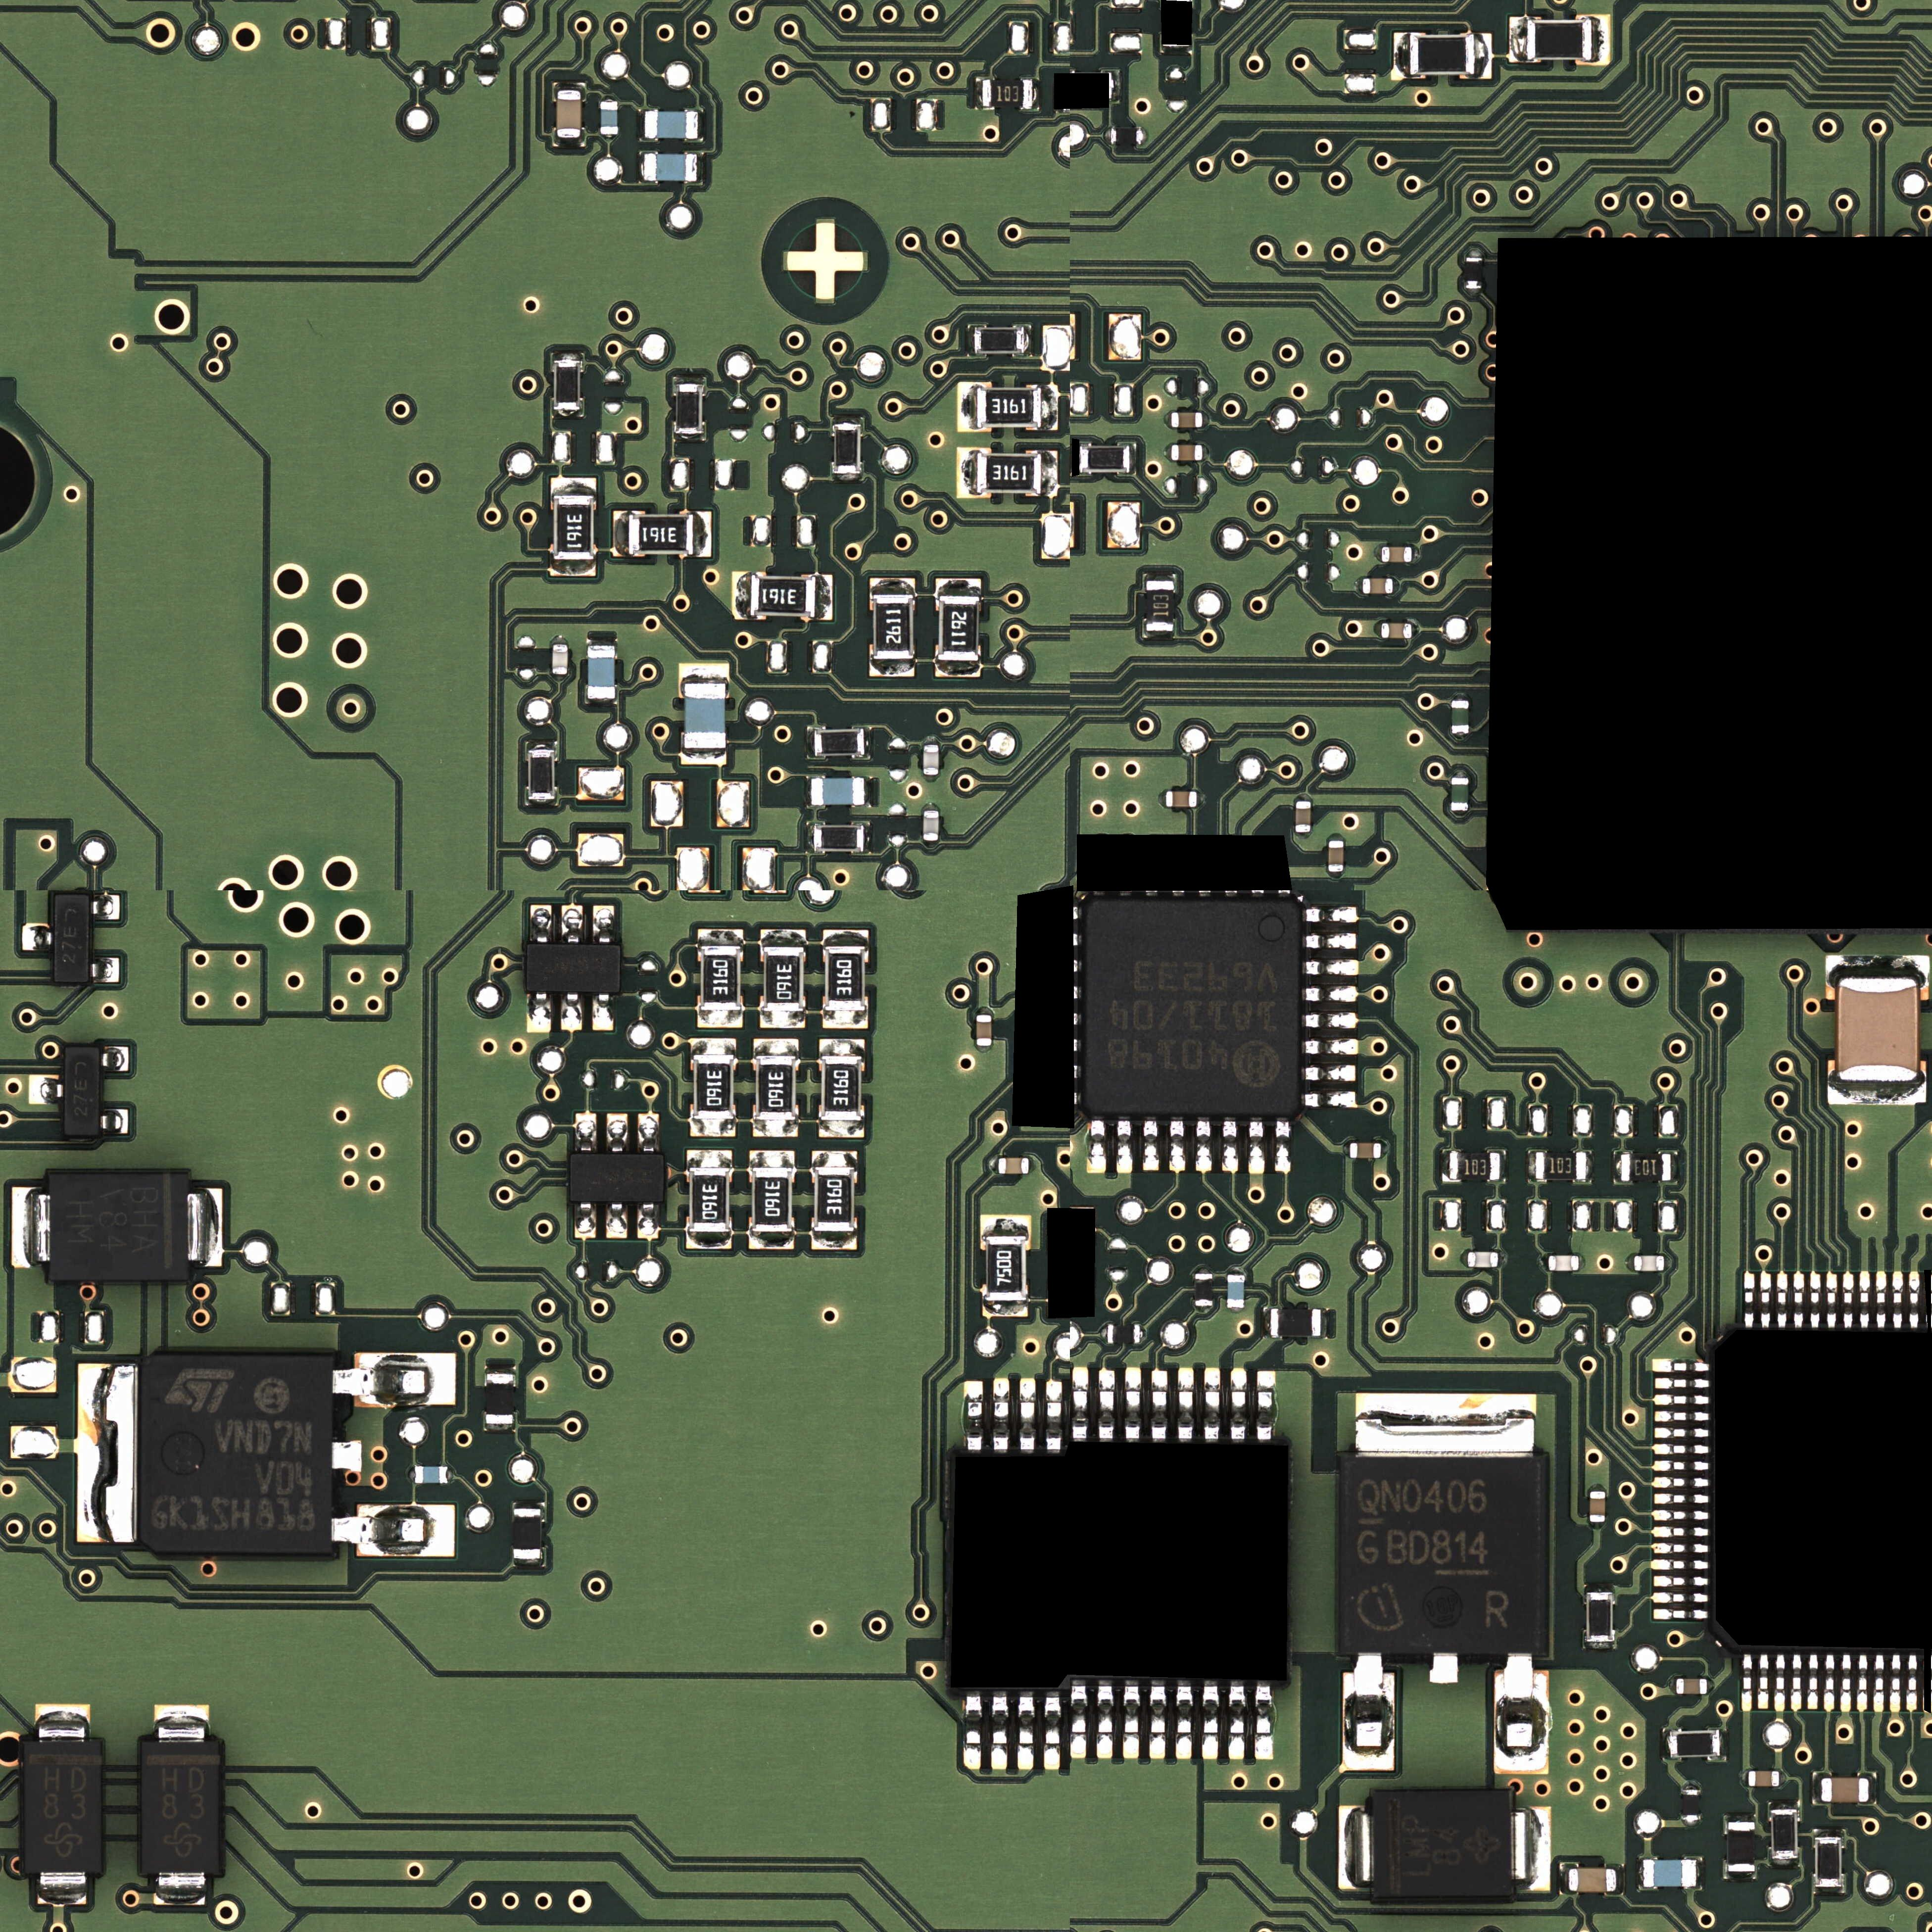Package: (1085, 899, 1299, 1115), (1339, 1458, 1550, 1652), (136, 1355, 331, 1553), (48, 1169, 189, 1284), (1375, 1790, 1511, 1897), (140, 1743, 219, 1874), (23, 1743, 103, 1872), (1835, 978, 1920, 1081), (525, 943, 621, 993), (570, 1154, 665, 1201), (53, 893, 90, 984), (64, 1046, 101, 1136), (984, 1237, 1026, 1300), (685, 683, 725, 748), (750, 577, 816, 617), (872, 594, 913, 660), (977, 453, 1042, 494), (938, 596, 978, 662), (554, 495, 594, 559), (824, 947, 865, 1010), (701, 947, 741, 1010), (814, 1168, 855, 1231), (752, 1168, 793, 1231), (821, 1056, 862, 1120), (755, 1056, 796, 1120), (977, 387, 1040, 428), (1410, 34, 1474, 74), (1527, 19, 1591, 60), (628, 515, 694, 554), (764, 947, 803, 1012), (690, 1168, 729, 1231), (694, 1054, 732, 1118), (644, 154, 697, 182), (587, 646, 616, 699), (1644, 1859, 1697, 1888), (644, 111, 699, 138), (810, 778, 865, 805), (1146, 580, 1175, 632), (1449, 1152, 1500, 1180), (1621, 1154, 1672, 1182), (1270, 1309, 1322, 1338), (513, 1509, 541, 1559), (982, 80, 1031, 108), (1727, 1822, 1755, 1872), (487, 1373, 513, 1424), (1536, 1154, 1587, 1180), (814, 729, 863, 755), (1079, 446, 1129, 472), (975, 327, 1024, 354), (1771, 1810, 1798, 1859), (1670, 1730, 1720, 1757), (833, 425, 860, 472), (529, 750, 554, 800), (676, 384, 701, 433), (814, 826, 863, 851), (1587, 1592, 1612, 1642), (554, 361, 579, 409), (1821, 1778, 1868, 1803), (1815, 1838, 1840, 1886), (557, 90, 580, 138), (1569, 1868, 1617, 1891), (1194, 1274, 1214, 1306), (600, 101, 617, 134), (1451, 701, 1468, 734), (1451, 777, 1468, 810), (416, 1467, 448, 1484), (1111, 127, 1143, 145), (1108, 1325, 1139, 1343), (1683, 1789, 1700, 1821), (1465, 258, 1483, 288), (1295, 801, 1311, 833), (1329, 840, 1345, 872), (1171, 444, 1203, 460), (1350, 1143, 1382, 1159), (1748, 1771, 1780, 1787), (1675, 1679, 1707, 1695), (998, 1157, 1030, 1173), (1228, 1276, 1244, 1307), (552, 644, 568, 674), (924, 745, 939, 775), (977, 1016, 993, 1046), (1382, 623, 1412, 639), (924, 810, 939, 840), (1382, 547, 1412, 563), (1166, 791, 1196, 807), (1362, 579, 1392, 594), (1171, 412, 1201, 428), (1589, 1491, 1605, 1522), (1548, 1256, 1578, 1270), (1635, 1256, 1665, 1270), (1468, 1253, 1499, 1267)
Solder: (1355, 1392, 1536, 1456), (78, 1362, 136, 1543), (1491, 1652, 1550, 1775), (331, 1504, 456, 1559), (331, 1353, 458, 1407), (1341, 1652, 1396, 1769), (1511, 1806, 1552, 1891), (1338, 1805, 1375, 1891), (12, 1187, 50, 1269), (189, 1189, 223, 1267), (1826, 1081, 1927, 1106), (1826, 955, 1930, 978), (35, 1704, 90, 1741), (154, 1706, 209, 1741), (37, 1872, 88, 1905), (154, 1874, 207, 1905), (964, 1691, 982, 1769), (991, 1691, 1008, 1769), (1017, 1691, 1035, 1769), (1070, 1681, 1088, 1759), (1254, 1683, 1272, 1760), (1175, 1681, 1192, 1759), (1072, 1364, 1090, 1442), (1152, 1366, 1169, 1444), (1177, 1364, 1194, 1442), (993, 1376, 1010, 1454), (1046, 1376, 1063, 1454), (1044, 1693, 1062, 1769), (1097, 1683, 1115, 1759), (1123, 1683, 1141, 1759), (1150, 1683, 1168, 1759), (1201, 1683, 1219, 1759), (1228, 1683, 1246, 1759), (1099, 1366, 1116, 1442), (1125, 1366, 1143, 1442), (1203, 1366, 1221, 1442), (1230, 1366, 1247, 1442), (1019, 1376, 1035, 1454), (966, 1376, 982, 1453), (1258, 1369, 1274, 1444), (28, 1074, 64, 1104), (527, 993, 552, 1033), (957, 448, 977, 499), (980, 1215, 1031, 1235), (1115, 1118, 1132, 1173), (1221, 1118, 1238, 1173), (679, 663, 729, 683), (957, 382, 977, 432), (333, 1440, 363, 1472), (1430, 1652, 1460, 1684), (1088, 1120, 1106, 1173), (1169, 1118, 1187, 1171), (1194, 1120, 1212, 1173), (1247, 1118, 1265, 1171), (1592, 14, 1610, 65), (1302, 961, 1359, 977), (1302, 1065, 1359, 1081), (529, 904, 552, 943), (812, 1231, 858, 1251), (1304, 934, 1359, 950), (1304, 987, 1359, 1003), (1302, 1012, 1357, 1028), (1304, 1039, 1359, 1054), (1304, 1092, 1359, 1108), (607, 1113, 628, 1154), (575, 1113, 596, 1154), (561, 906, 584, 943), (21, 924, 53, 950), (679, 748, 727, 766), (732, 571, 750, 619), (817, 1120, 865, 1138), (1143, 1118, 1159, 1171), (1276, 1118, 1292, 1171), (561, 993, 582, 1031), (1652, 1491, 1711, 1506), (550, 478, 596, 495), (761, 929, 807, 947), (869, 660, 915, 678), (694, 511, 711, 557), (816, 575, 833, 621), (819, 1039, 865, 1056), (823, 1010, 869, 1028), (754, 1039, 800, 1056), (690, 1120, 736, 1138), (697, 1010, 743, 1028), (686, 1231, 732, 1249), (605, 1203, 628, 1238), (752, 1120, 798, 1138), (812, 1150, 858, 1168), (686, 1150, 732, 1168), (1509, 18, 1527, 64), (1654, 1359, 1711, 1373), (1652, 1460, 1709, 1474), (1652, 1541, 1709, 1555), (639, 1113, 658, 1154), (593, 906, 614, 943), (593, 994, 614, 1031), (750, 1150, 794, 1168), (1302, 908, 1357, 922), (548, 561, 596, 577), (1392, 32, 1408, 80), (1042, 449, 1058, 497), (637, 1203, 658, 1238), (575, 1203, 596, 1238), (823, 931, 869, 947), (697, 929, 743, 945), (934, 662, 980, 678), (748, 1233, 794, 1249), (759, 1012, 805, 1028), (690, 1039, 736, 1054), (1042, 384, 1058, 430), (1476, 34, 1491, 80), (1652, 1444, 1711, 1456), (1652, 1509, 1711, 1522), (1651, 1559, 1709, 1571), (1651, 1576, 1709, 1589), (870, 579, 915, 594), (936, 579, 980, 594), (92, 895, 120, 920), (101, 1047, 129, 1072), (101, 1109, 129, 1134), (90, 957, 119, 982), (1654, 1376, 1711, 1389), (1654, 1394, 1711, 1407), (1654, 1412, 1711, 1424), (1652, 1426, 1709, 1438), (1652, 1477, 1709, 1490), (1652, 1525, 1709, 1537), (1652, 1592, 1709, 1605), (1652, 1610, 1709, 1622), (614, 511, 628, 557), (982, 1302, 1028, 1316), (1743, 1272, 1753, 1329), (1760, 1272, 1771, 1329), (1776, 1272, 1787, 1329), (1794, 1272, 1805, 1329), (1909, 1272, 1920, 1329), (1741, 1654, 1752, 1711), (1759, 1654, 1769, 1711), (1775, 1654, 1785, 1711), (1792, 1654, 1803, 1711), (1824, 1654, 1835, 1711), (1858, 1654, 1868, 1711), (1874, 1654, 1884, 1711), (1890, 1654, 1900, 1711), (1905, 1654, 1916, 1711), (1810, 1272, 1821, 1327), (1828, 1272, 1838, 1327), (1844, 1272, 1854, 1327), (1877, 1272, 1886, 1329), (1893, 1272, 1902, 1329), (1808, 1654, 1817, 1711), (1842, 1654, 1851, 1711), (1861, 1272, 1870, 1327), (672, 433, 706, 442), (552, 138, 586, 147), (1723, 1872, 1757, 1881), (525, 741, 557, 750), (513, 1559, 545, 1568), (973, 78, 982, 110), (966, 326, 975, 357), (1670, 1152, 1679, 1184), (1527, 1150, 1536, 1182), (1812, 1773, 1821, 1805), (1868, 1773, 1877, 1805), (1813, 1828, 1845, 1836), (554, 81, 584, 90), (697, 110, 706, 140), (587, 637, 617, 646), (513, 1500, 543, 1509), (1725, 1813, 1755, 1822), (1560, 1863, 1569, 1893), (1585, 1583, 1615, 1592), (1661, 1729, 1670, 1759), (1769, 1801, 1799, 1810), (1322, 1309, 1330, 1338), (584, 699, 617, 706), (807, 821, 814, 855), (863, 821, 870, 855), (1614, 1150, 1621, 1184), (637, 150, 644, 182), (637, 110, 644, 142), (552, 410, 584, 418), (697, 152, 704, 184), (552, 352, 584, 359), (674, 377, 706, 384), (525, 800, 557, 807), (865, 727, 872, 759), (483, 1424, 515, 1431), (1033, 78, 1040, 110), (1143, 573, 1175, 580), (1143, 632, 1175, 639), (1442, 1150, 1449, 1182), (1637, 1858, 1644, 1890), (1617, 1863, 1624, 1895), (1697, 1858, 1704, 1890), (1720, 1729, 1727, 1760), (1583, 1642, 1615, 1649), (1113, 71, 1120, 103), (832, 416, 862, 423), (832, 474, 862, 481), (807, 727, 814, 757), (865, 777, 872, 807), (485, 1366, 515, 1373), (1024, 326, 1031, 356), (1263, 1307, 1270, 1338), (1769, 1859, 1799, 1867), (1813, 1888, 1844, 1895), (1161, 48, 1191, 55), (1131, 442, 1136, 476), (1587, 1150, 1592, 1184), (1500, 1150, 1506, 1182), (805, 777, 810, 807), (975, 1007, 993, 1016), (1451, 810, 1468, 819), (1663, 1254, 1672, 1270), (1194, 1306, 1214, 1313), (407, 1465, 414, 1483), (1375, 621, 1382, 639), (1100, 1325, 1108, 1343), (1139, 1325, 1146, 1343), (1382, 1141, 1389, 1159), (991, 1157, 998, 1175), (1194, 1267, 1212, 1274), (1451, 770, 1468, 777), (1451, 694, 1468, 701), (1628, 1254, 1635, 1272), (1589, 1484, 1606, 1491), (1683, 1782, 1700, 1789), (1683, 1821, 1700, 1828), (1707, 1677, 1714, 1695), (924, 738, 939, 745), (924, 840, 939, 847), (552, 674, 568, 681), (924, 803, 939, 810), (552, 637, 568, 644), (1164, 444, 1171, 460), (1201, 444, 1208, 460), (1329, 833, 1345, 840), (1198, 791, 1205, 807), (977, 1046, 993, 1053), (1343, 1141, 1350, 1157), (1461, 1251, 1468, 1267), (1499, 1251, 1506, 1267), (1578, 1254, 1585, 1270), (1589, 1522, 1605, 1529), (448, 1467, 453, 1484), (600, 96, 617, 101), (600, 134, 617, 140), (1376, 545, 1382, 563), (1412, 545, 1417, 563), (1451, 734, 1468, 740), (1743, 1769, 1748, 1787), (924, 775, 939, 780), (1166, 412, 1171, 428), (1203, 412, 1208, 428), (1161, 791, 1166, 807), (1295, 832, 1311, 837), (1327, 872, 1343, 878), (1295, 796, 1311, 801), (1412, 623, 1417, 639), (1392, 579, 1398, 594), (1357, 579, 1362, 594), (1030, 1157, 1035, 1173), (1228, 1269, 1244, 1274), (1228, 1307, 1244, 1313), (1465, 288, 1481, 294), (1543, 1254, 1548, 1270), (1780, 1771, 1785, 1787), (1670, 1677, 1675, 1693), (1106, 129, 1111, 143), (1143, 129, 1148, 143)
